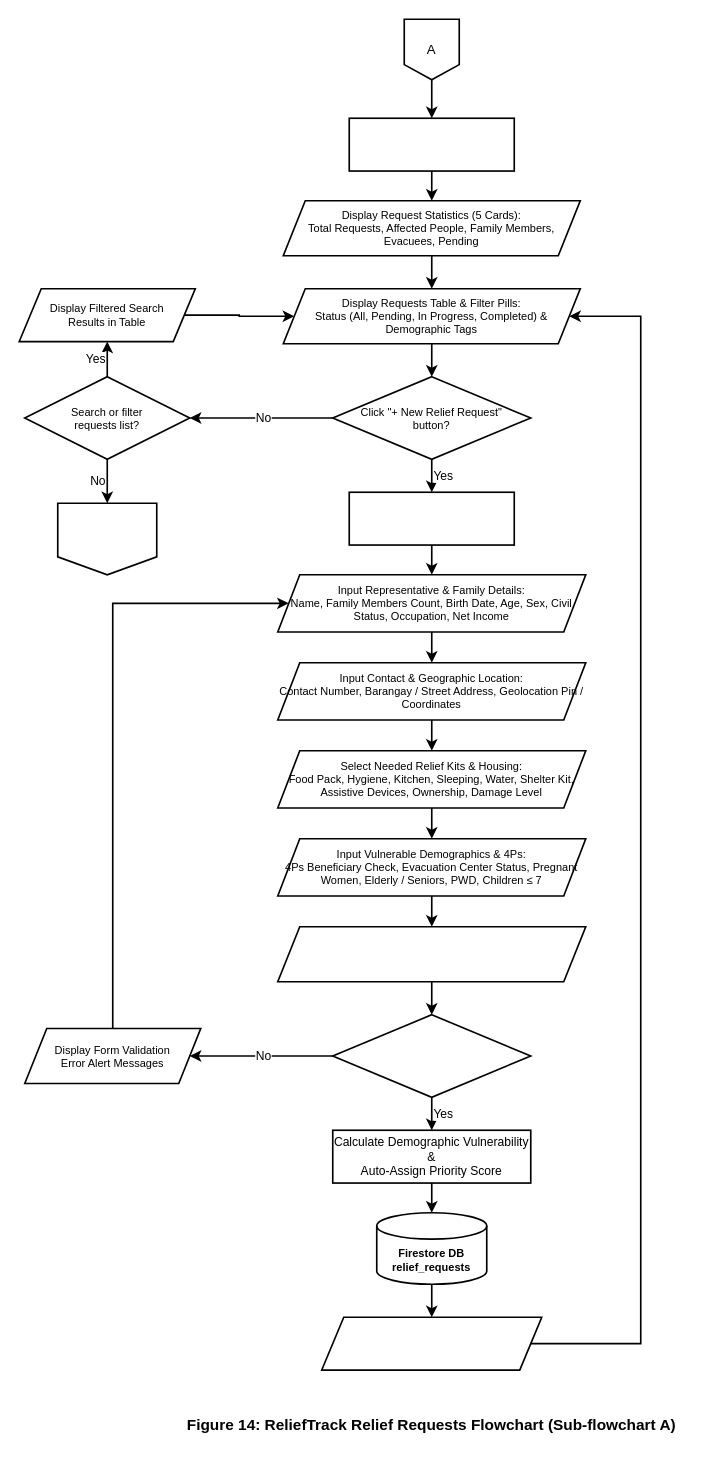
Some shapes in this 715 by 1463 pixel diagram are drawn without their labels. Here are the shapes that lost their labels. From the top down, the centre of each, then its label:
(x=431, y=144): Relief Requests Module Main Interface
(x=106, y=538): Admin Dashboard
(x=431, y=518): Open "New Relief Request" Input Modal
(x=431, y=953): Input Additional Situation Notes (Optional) & Click "+ Create Relief Request"
(x=431, y=1055): Required fields complete & valid format?
(x=431, y=1343): Display Success Toast Notification & Close Modal Window
